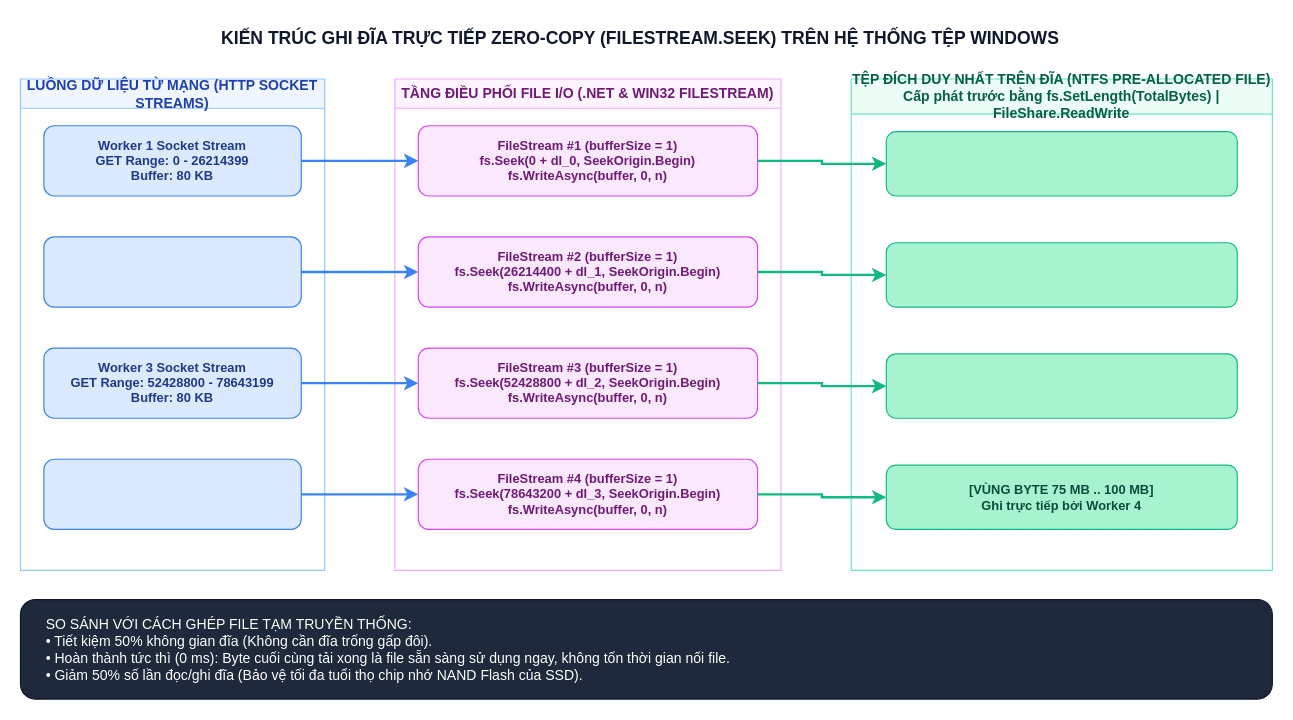
This 1293x720 diagram has some shape labels left out. The centre of each missing label's shape, as x and y in pixels:
"[VÙNG BYTE 0 .. 25 MB] Ghi trực tiếp bởi Worker 1" belongs at (x=1061, y=163).
"[VÙNG BYTE 25 MB .. 50 MB] Ghi trực tiếp bởi Worker 2" belongs at (x=1061, y=274).
"[VÙNG BYTE 50 MB .. 75 MB] Ghi trực tiếp bởi Worker 3" belongs at (x=1061, y=385).
"Worker 2 Socket Stream GET Range: 26214400 - 52428799 Buffer: 80 KB" belongs at (x=172, y=271).
"Worker 4 Socket Stream GET Range: 78643200 - 104857599 Buffer: 80 KB" belongs at (x=172, y=493).
